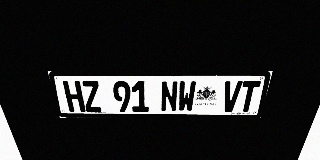1: (130, 81, 149, 112)
9: (112, 81, 132, 112)
H: (62, 81, 86, 112)
N: (161, 81, 178, 112)
T: (237, 81, 261, 112)
V: (221, 81, 243, 112)
W: (177, 81, 196, 112)
Z: (80, 81, 103, 112)
